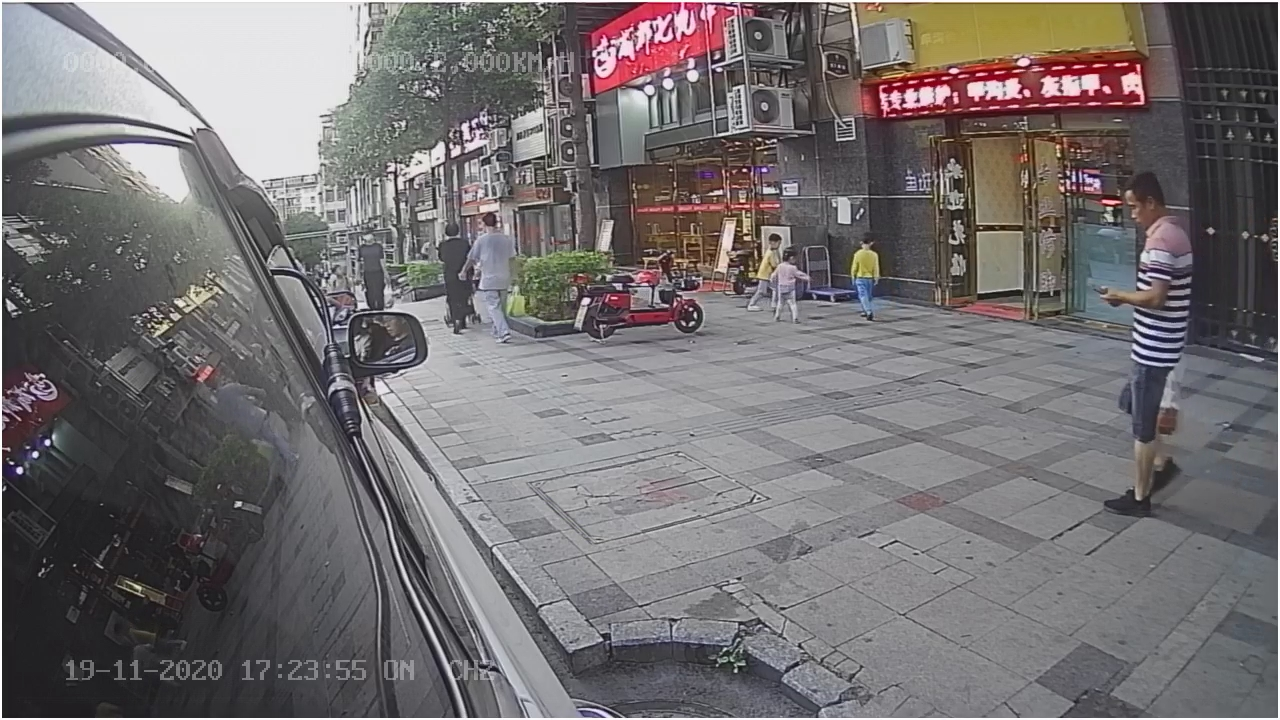person: (1088, 162, 1196, 531), (457, 213, 520, 347), (761, 246, 814, 328), (844, 231, 885, 326)
